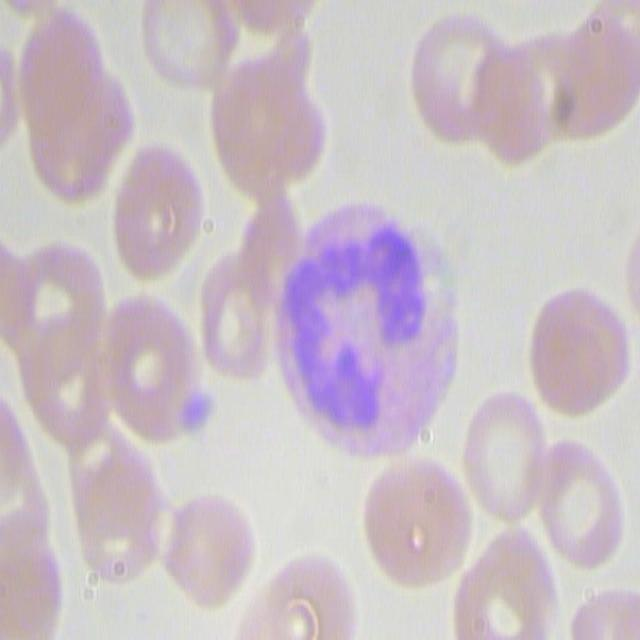RBC: (14, 2, 129, 212), (0, 228, 104, 451), (92, 294, 203, 462), (67, 427, 175, 593), (212, 64, 332, 206), (516, 429, 627, 573), (360, 446, 464, 594), (526, 285, 632, 421), (403, 5, 502, 150), (105, 141, 202, 280), (540, 0, 636, 140), (148, 492, 256, 616), (188, 252, 281, 385), (458, 385, 548, 520), (448, 527, 558, 637), (202, 0, 314, 94), (237, 555, 354, 640), (137, 0, 240, 94), (567, 584, 640, 640)
WBC: (282, 190, 459, 467)
platelets: (174, 386, 216, 441)
